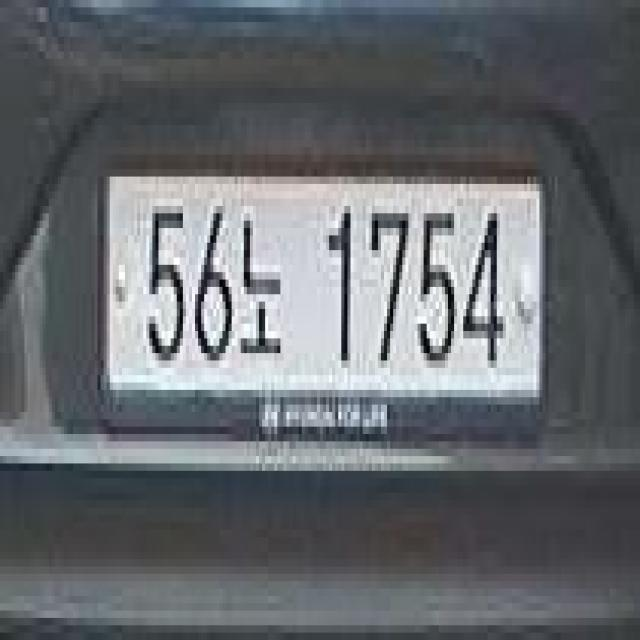1: (323, 192, 359, 368)
4: (461, 195, 506, 370)
5: (414, 194, 457, 369), (144, 199, 186, 363)
6: (194, 193, 234, 366)
7: (364, 191, 410, 364)
license_plate: (98, 143, 553, 435)
no: (238, 193, 284, 367)
